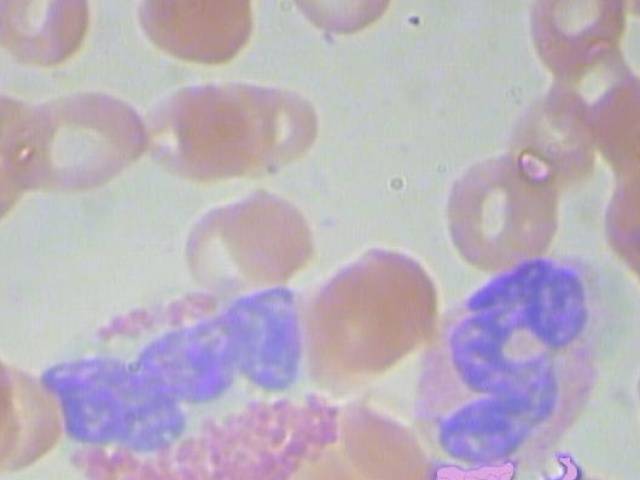RBC: (0, 79, 159, 202), (322, 232, 447, 372), (442, 146, 566, 269), (224, 66, 327, 169), (495, 83, 597, 186), (215, 178, 317, 281), (171, 193, 273, 296), (176, 73, 278, 176), (137, 79, 240, 181), (129, 0, 270, 68), (526, 0, 630, 79), (0, 0, 98, 67), (273, 0, 407, 38)
WBC: (31, 279, 360, 480), (401, 251, 621, 476)
